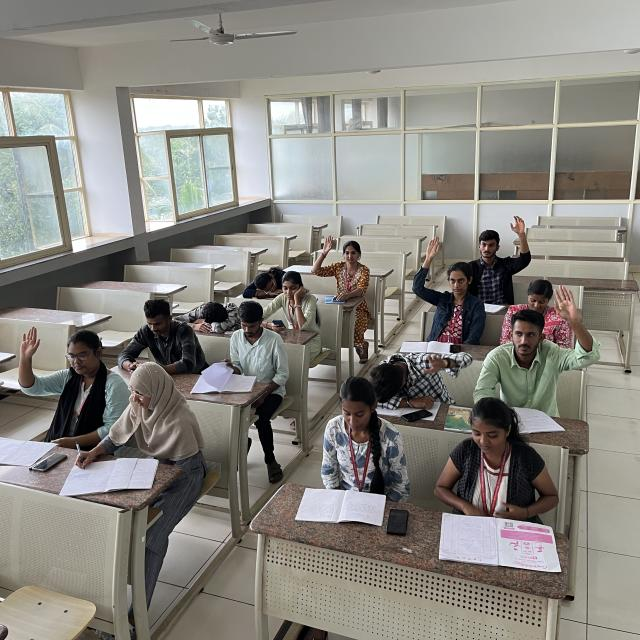Hand Rising: (474, 285, 596, 403), (15, 325, 114, 432), (411, 235, 481, 341), (473, 212, 532, 296), (309, 233, 375, 290)
Reading: (441, 398, 553, 559), (299, 376, 387, 518), (206, 302, 269, 388)
Sleeping: (365, 350, 432, 406), (176, 294, 239, 332), (240, 264, 296, 298)
Using Phone: (117, 297, 199, 377), (502, 275, 568, 349), (266, 272, 318, 333)
